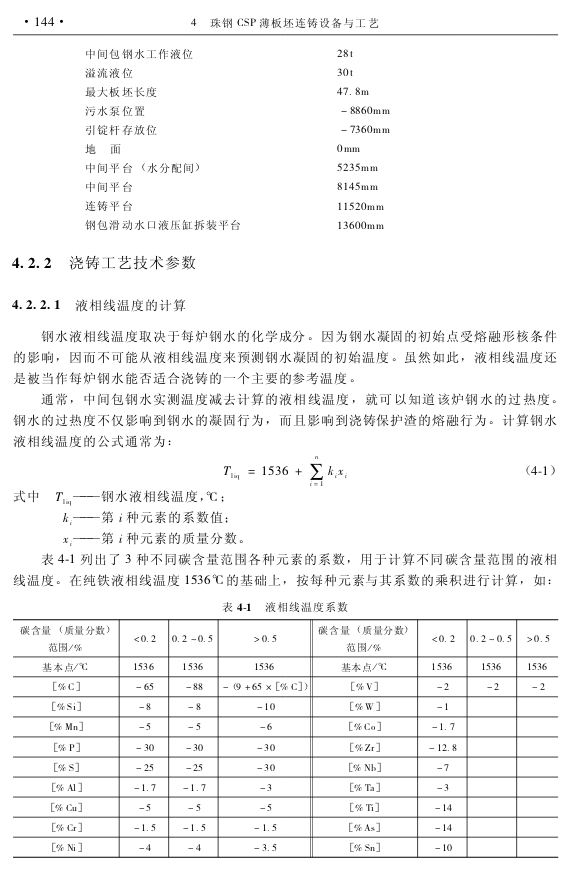table: (13, 619, 558, 858), (85, 47, 390, 230)
